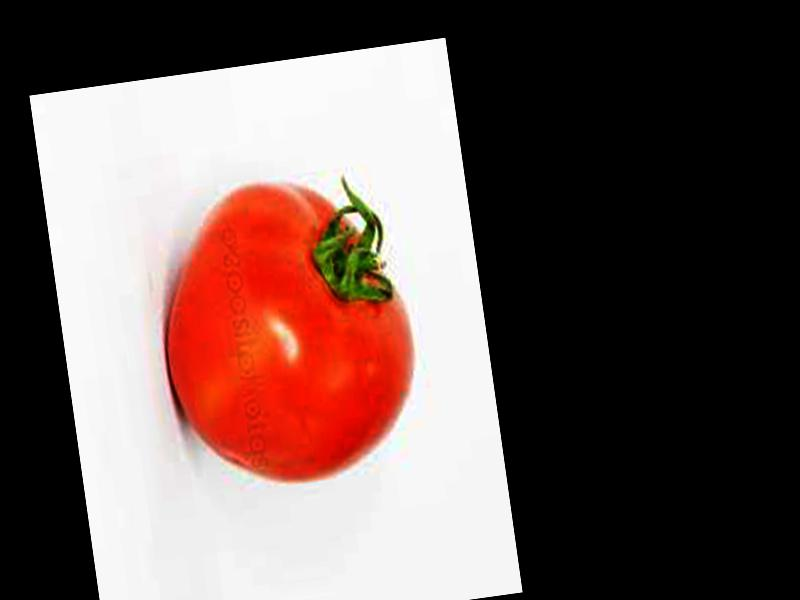Tomato: (146, 166, 433, 496)
